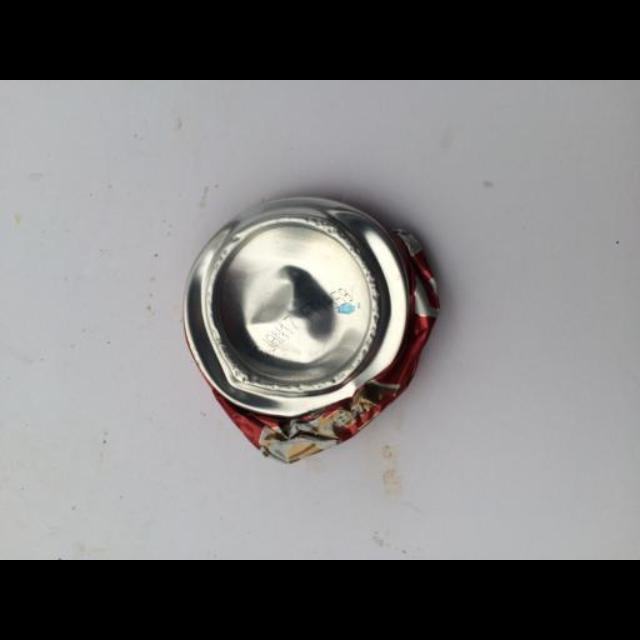lata: (184, 192, 446, 464)
